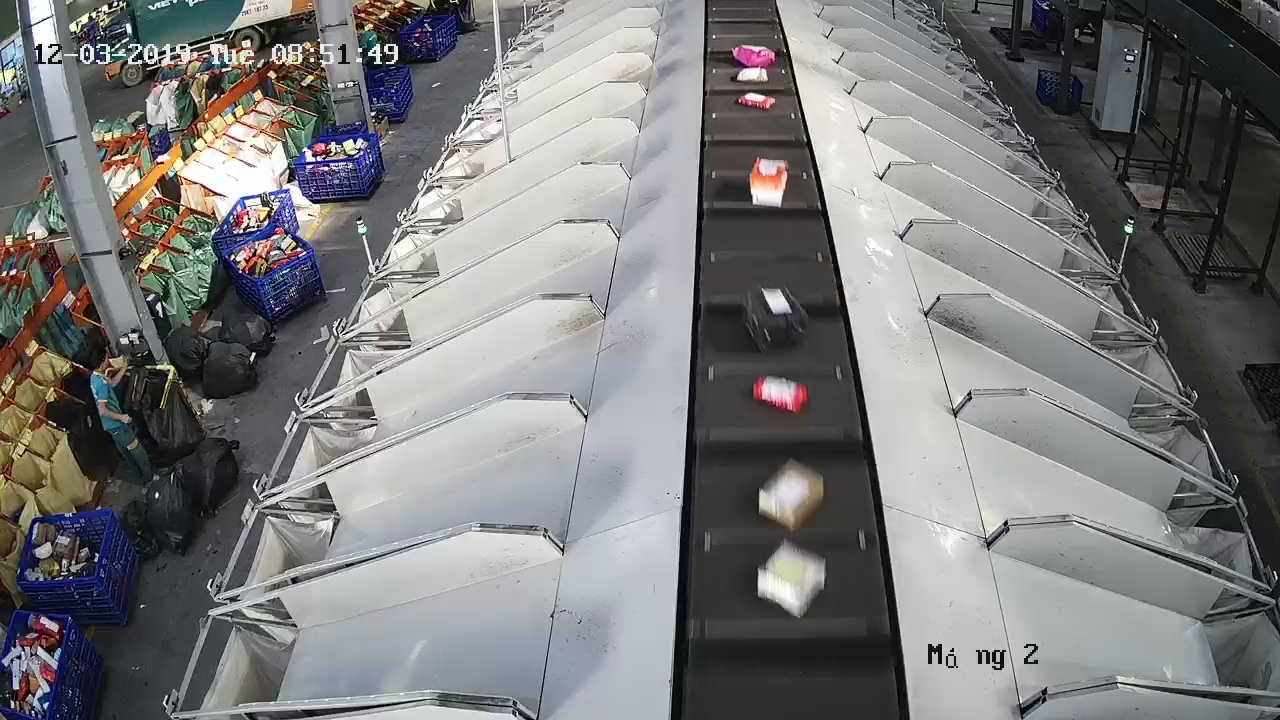parcel: (742, 282, 811, 356)
